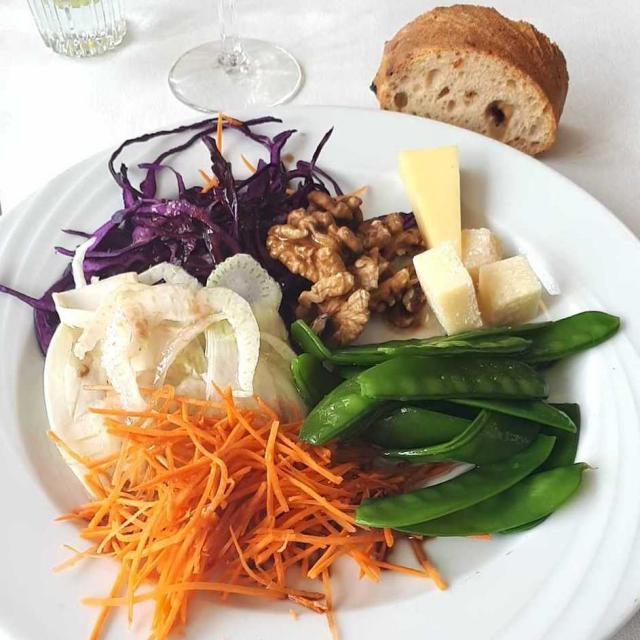bread: (376, 6, 567, 150)
cabbage: (50, 146, 382, 309)
cake: (36, 264, 298, 490)
carrot: (36, 386, 409, 621)
cheese: (397, 148, 534, 330)
walnut: (250, 181, 431, 349)
